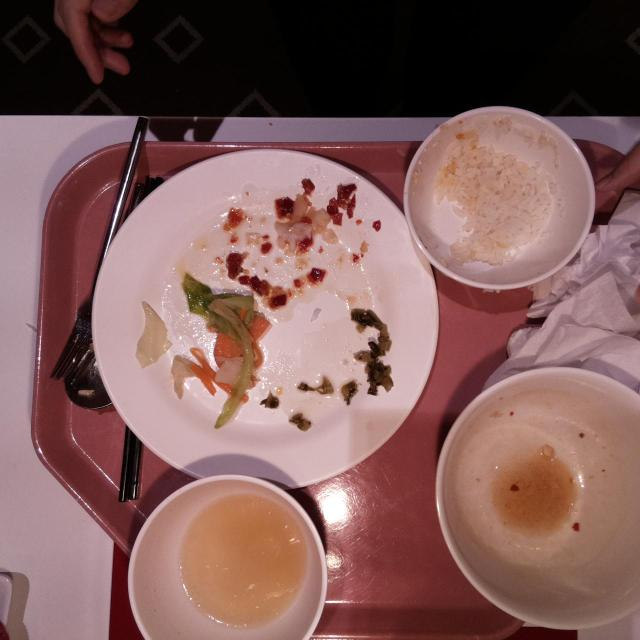Rice: (446, 143, 549, 267)
Vegetable: (193, 277, 271, 421), (137, 300, 173, 370)
